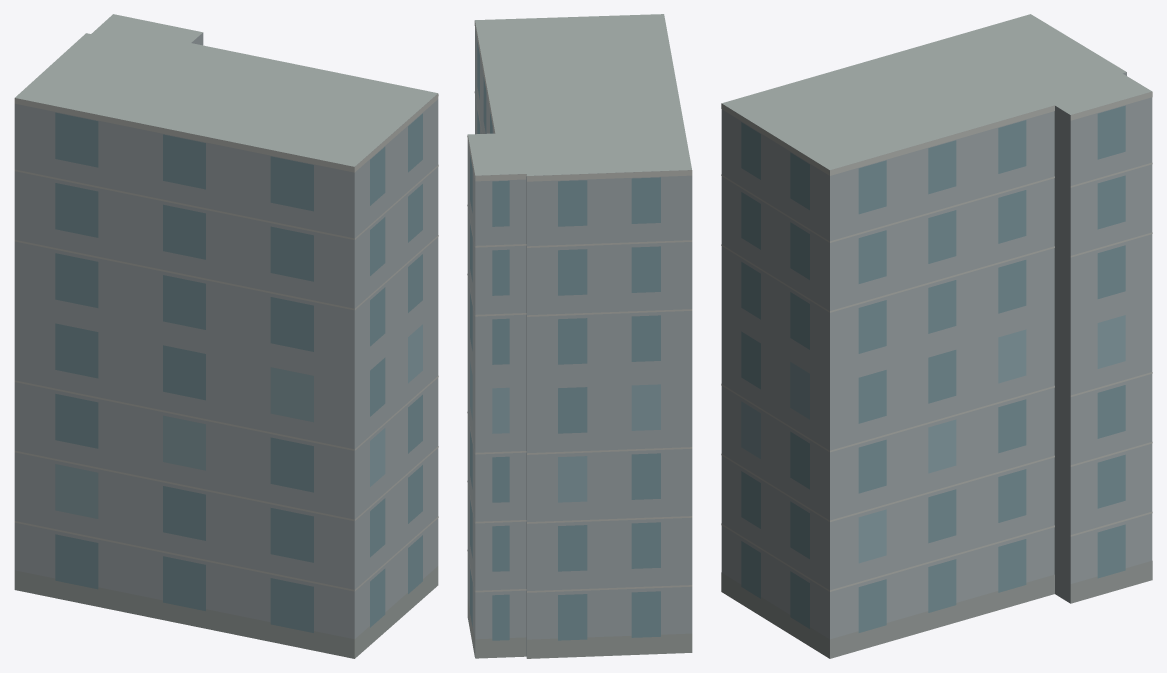
File: survey-upis-32658058.glb
3 views of the same model, side by side, from view 1: azimuth 30°, elevation 25°; view 2: azimuth 150°, elevation 25°; view 3: azimuth 270°, elevation 25° (orthographic).
Visible parts, largest first — view 1: survey-upis-32658058.tmp; view 2: survey-upis-32658058.tmp; view 3: survey-upis-32658058.tmp.
Boxes of the visible parts, x1,y1,x2,y2 form: survey-upis-32658058.tmp: [14, 14, 438, 658]; survey-upis-32658058.tmp: [467, 14, 692, 658]; survey-upis-32658058.tmp: [721, 14, 1152, 658].
Size of the model in its own units: 14.29 by 20.8 by 16.65.
